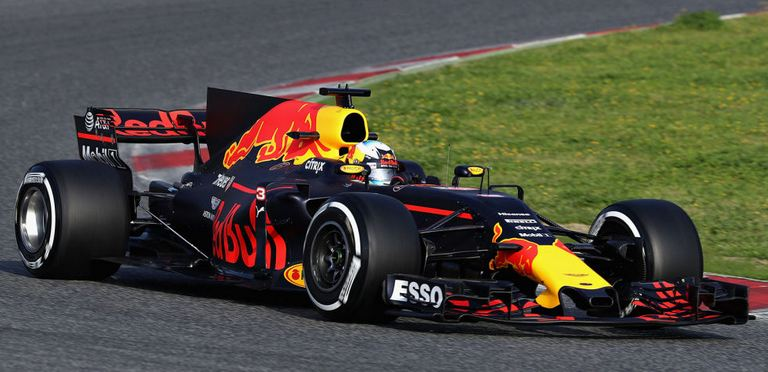f1_car: (10, 76, 761, 342)
